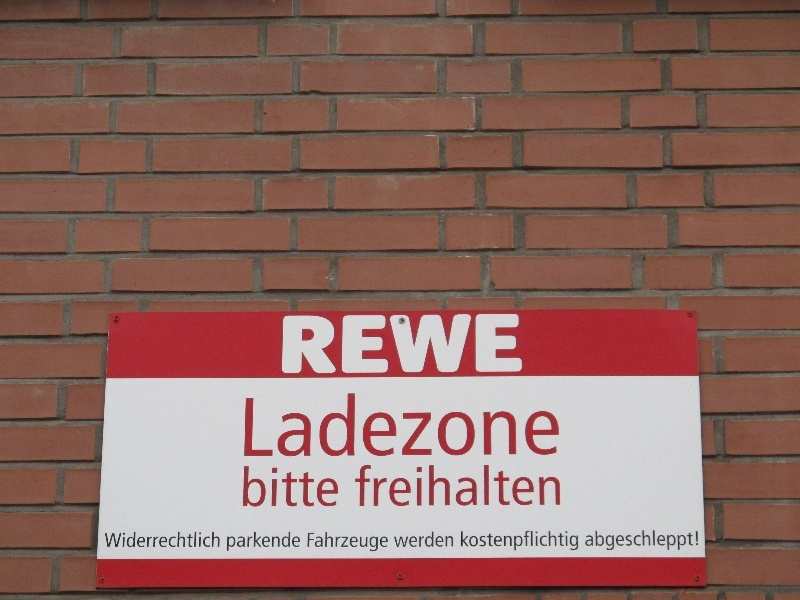text: (257, 393, 272, 458), (273, 393, 288, 458), (289, 393, 304, 458), (305, 393, 320, 458), (321, 393, 336, 458), (337, 393, 352, 458), (353, 393, 368, 458), (369, 393, 384, 458), (385, 393, 400, 458), (401, 393, 416, 458), (417, 393, 432, 458), (433, 393, 448, 458), (449, 393, 464, 458), (465, 393, 480, 458), (481, 393, 496, 458), (497, 393, 512, 458), (513, 393, 528, 458), (529, 393, 544, 458), (545, 393, 559, 458), (289, 315, 304, 374), (305, 315, 320, 374), (321, 315, 336, 374), (337, 315, 352, 374), (353, 315, 368, 374), (369, 315, 384, 374), (385, 315, 400, 374), (401, 315, 416, 374), (417, 315, 432, 374), (433, 315, 448, 374), (449, 315, 464, 374), (465, 315, 480, 374), (481, 315, 496, 374), (497, 315, 512, 374), (545, 465, 561, 507), (246, 393, 256, 458), (369, 465, 384, 507), (385, 465, 400, 507), (401, 465, 416, 507), (417, 465, 432, 507), (433, 465, 448, 507), (449, 465, 464, 507), (465, 465, 480, 507), (481, 465, 496, 507), (497, 465, 512, 507), (513, 465, 528, 507), (529, 465, 544, 507), (257, 467, 272, 507), (273, 467, 288, 507), (289, 467, 304, 507), (305, 467, 320, 507), (321, 467, 336, 507), (513, 315, 522, 374), (357, 465, 368, 507), (245, 467, 256, 507), (593, 530, 608, 551), (609, 530, 624, 551), (625, 530, 640, 551), (641, 530, 656, 551), (657, 530, 672, 551), (673, 530, 688, 551), (241, 532, 256, 552), (257, 532, 272, 552), (273, 532, 288, 552), (465, 531, 480, 551), (481, 531, 496, 551), (497, 531, 512, 551), (513, 531, 528, 551), (529, 531, 544, 551), (545, 531, 560, 551), (561, 531, 576, 551), (321, 533, 336, 552), (337, 533, 352, 552), (353, 533, 368, 552), (369, 533, 384, 552), (228, 532, 240, 552), (284, 315, 288, 374), (308, 533, 320, 552), (113, 532, 128, 547), (129, 532, 144, 547), (145, 532, 160, 547), (161, 532, 176, 547), (177, 532, 192, 547), (193, 532, 208, 547), (401, 532, 416, 547), (417, 532, 432, 547), (433, 532, 448, 547), (289, 532, 300, 552), (689, 530, 699, 551), (209, 532, 220, 547), (586, 530, 592, 551), (393, 532, 400, 547), (106, 532, 112, 547), (337, 467, 339, 507), (449, 532, 454, 547), (461, 531, 464, 551), (385, 533, 388, 552), (577, 531, 578, 551)
